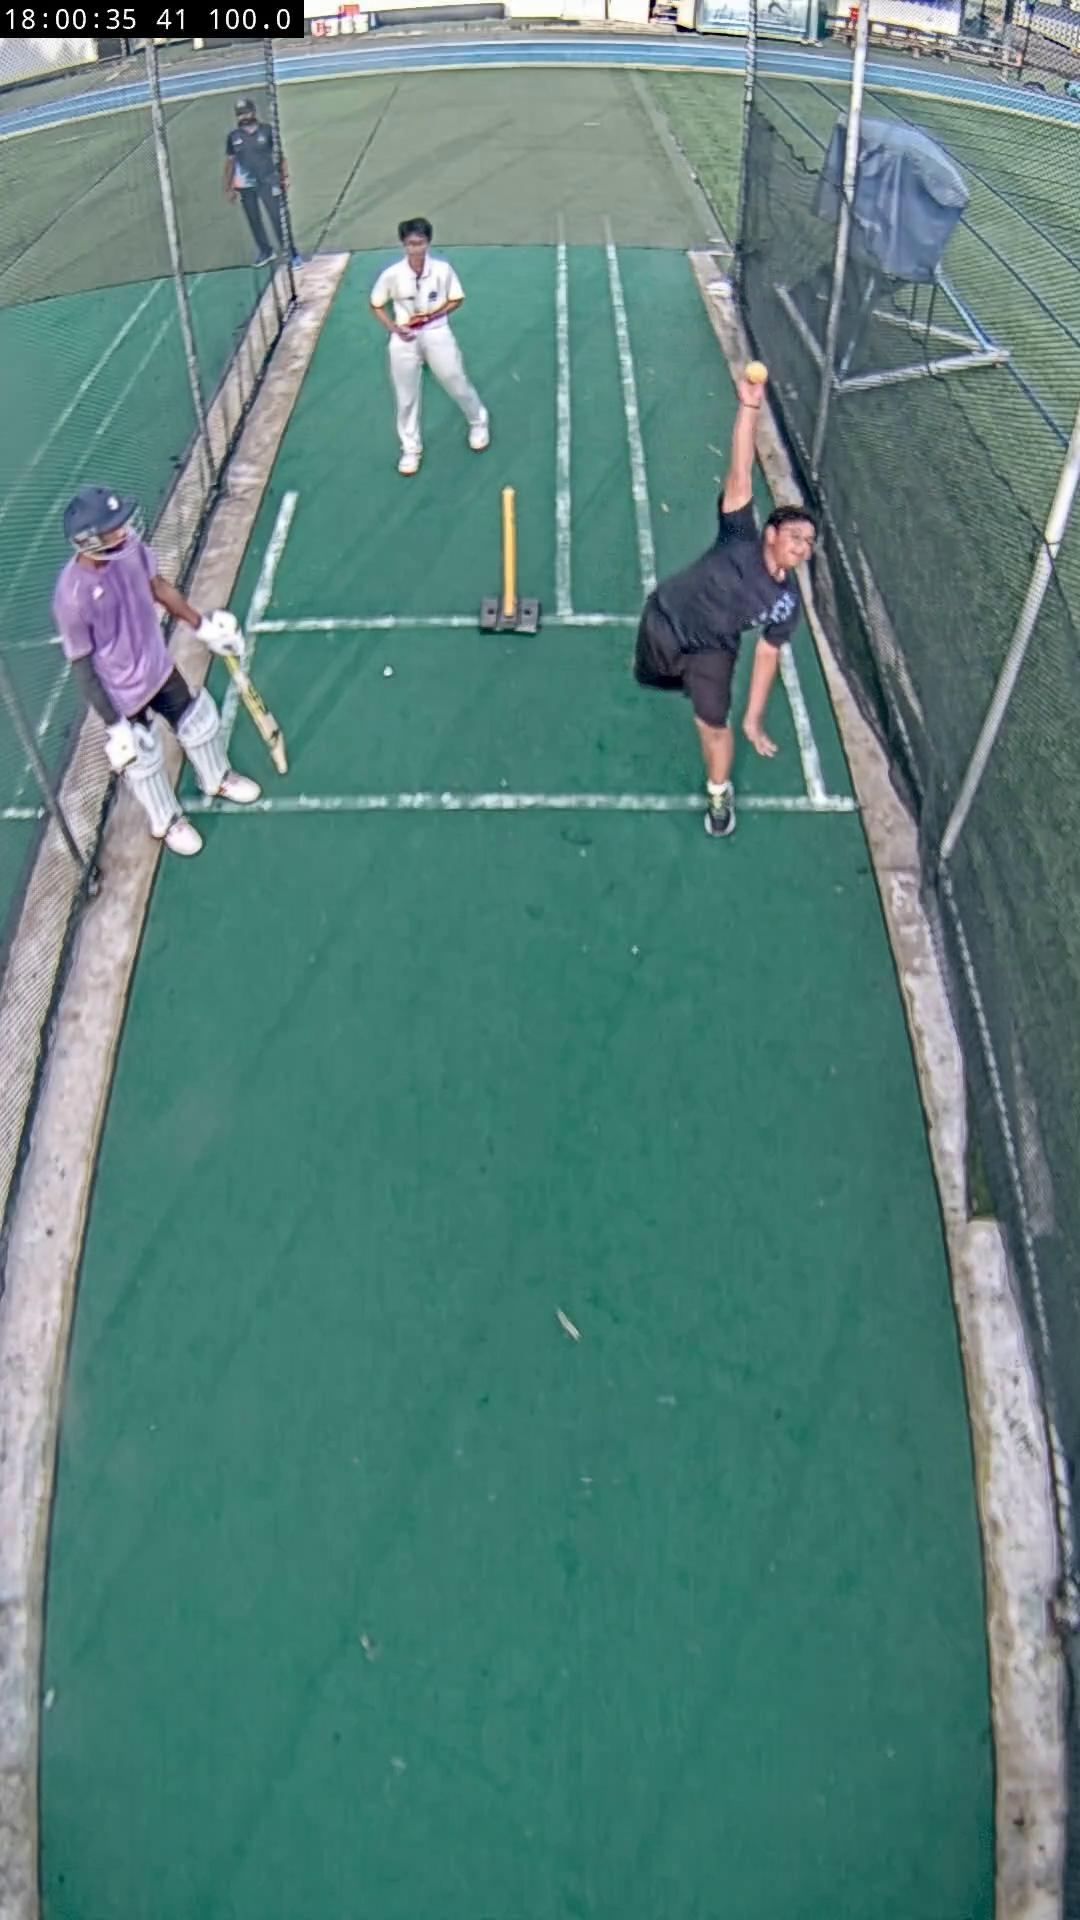ball: (742, 360, 769, 386)
stumps: (480, 488, 541, 634)
